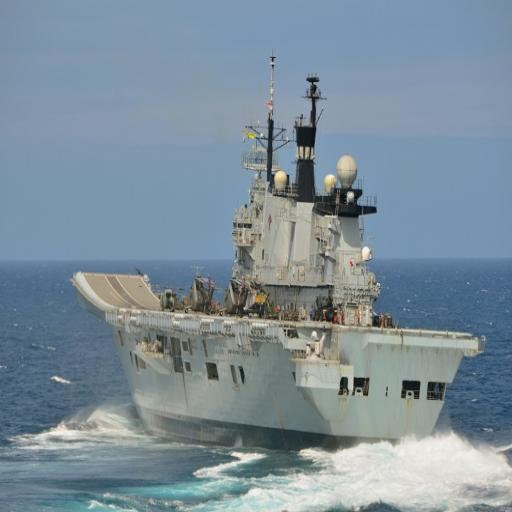Portanaves: (70, 43, 486, 460)
